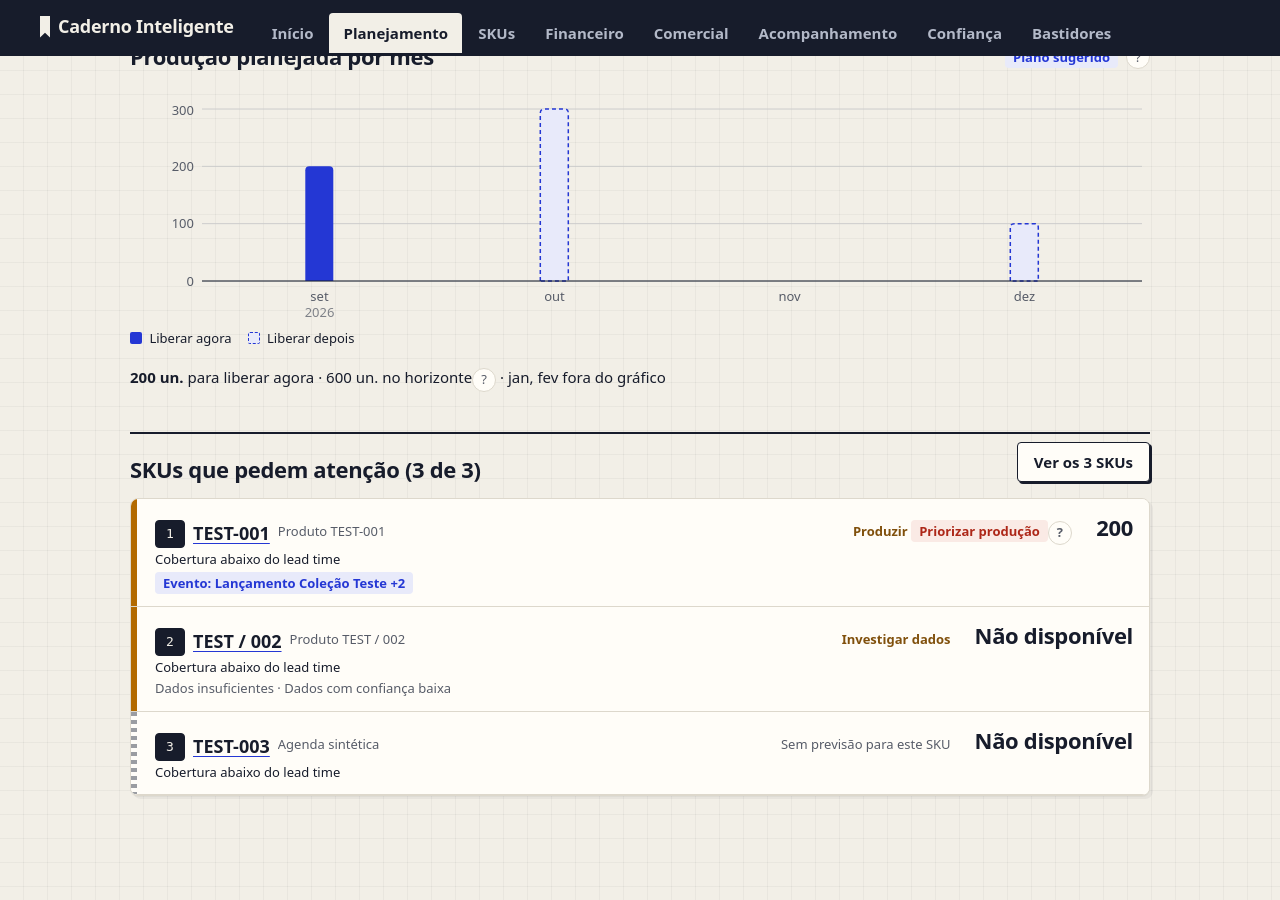
Test: filtros sincronizados com a URL › fila: por padrão mostra só o que pede atenção e o botão mostra todos
This screenshot has width=1280, height=900.
(page scrolled)
Expected: the heading "SKUs que pedem atenção (3 de 3)" is shown, [130,457,481,482]
Click the button "Ver os 3 SKUs". click: (1083, 462)
box: [1017,442,1150,482]
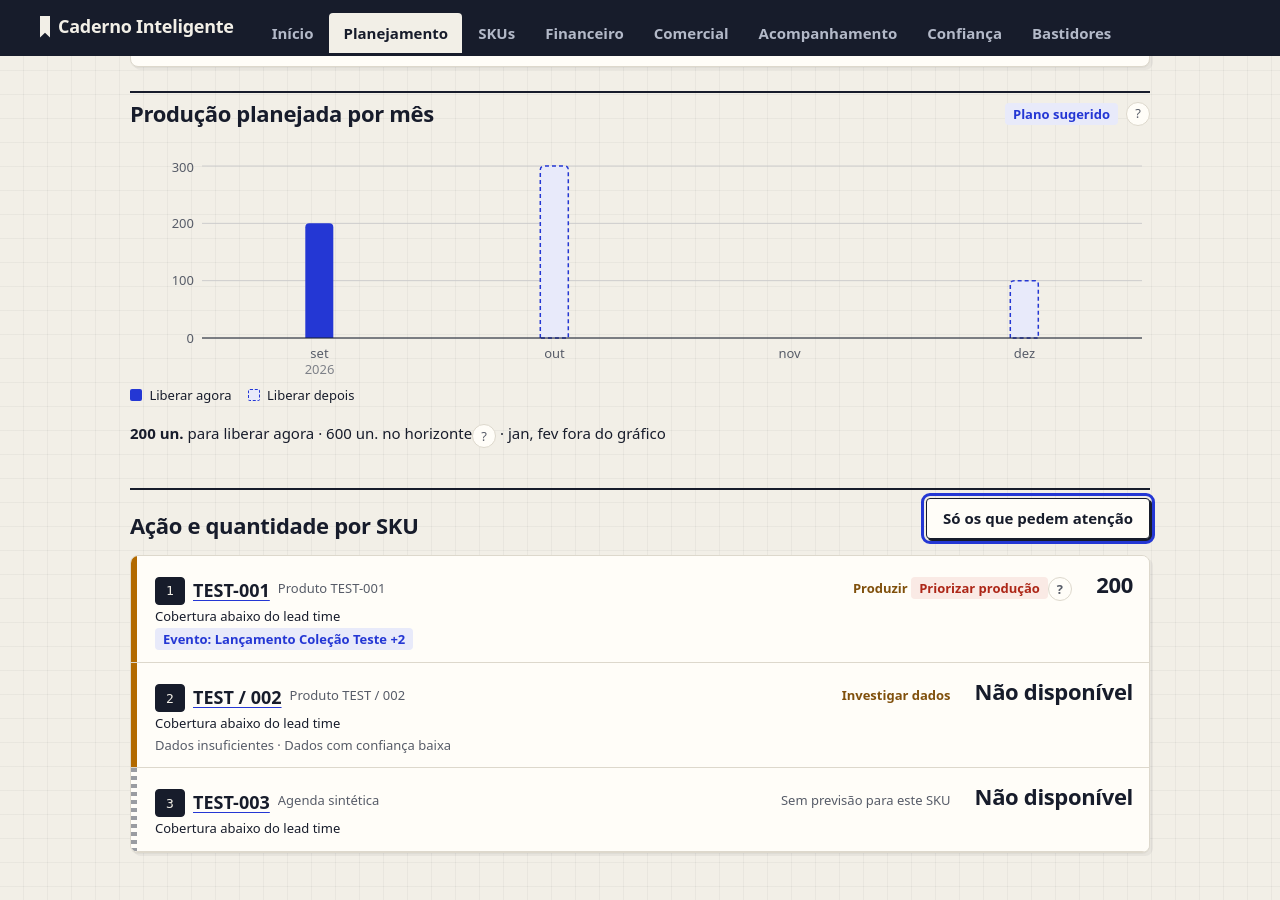
Now the button "Só os que pedem atenção" is shown, box [926,498,1150,539]
